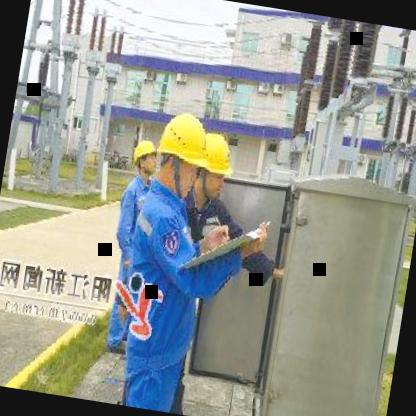helmet: (148, 102, 212, 198), (192, 127, 236, 209), (127, 134, 162, 182)
